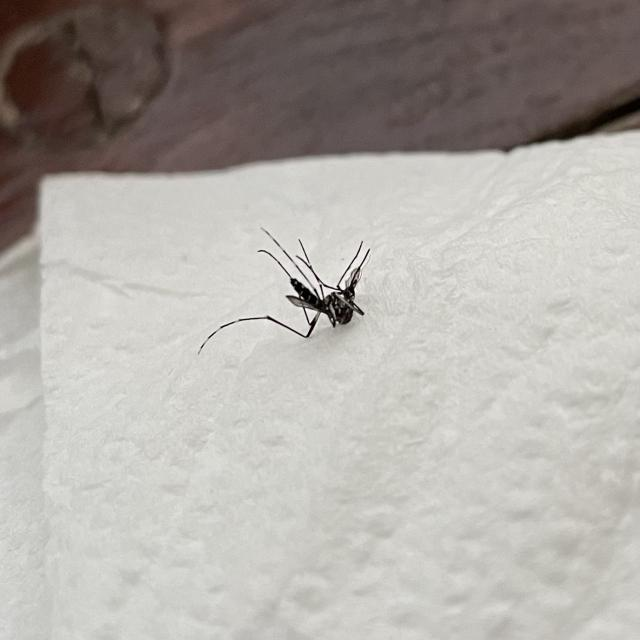albopictus: (206, 217, 376, 351)
